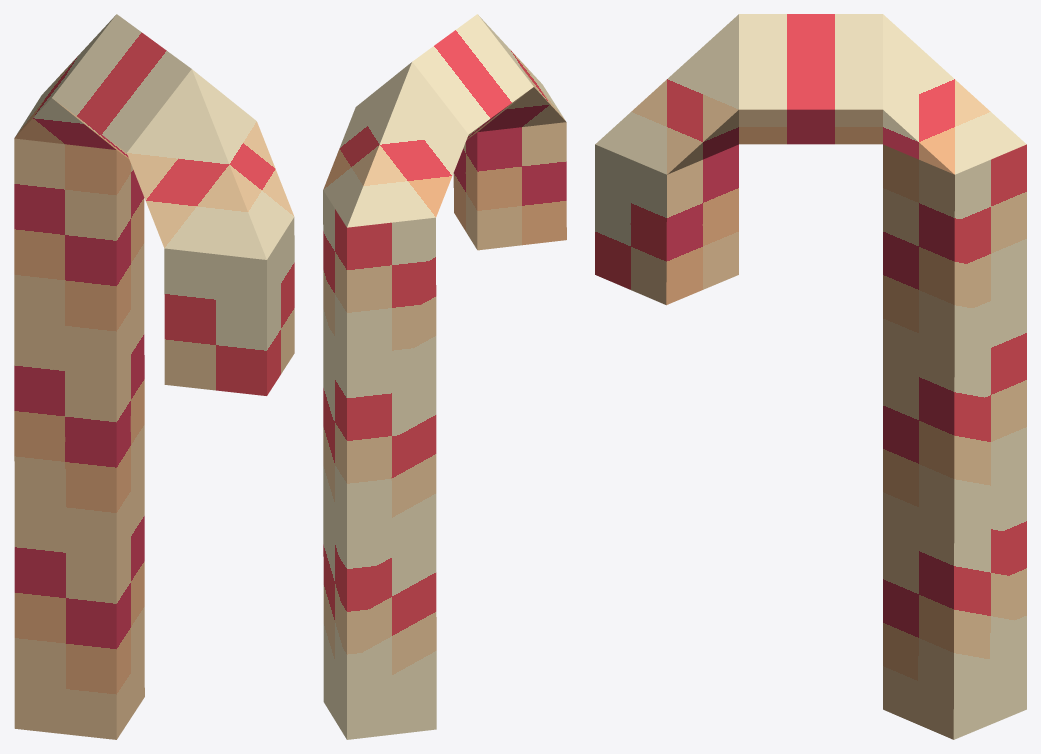
File: cane.fbx
The picture shows the model from 3 angles, left to right: view 1: azimuth 30°, elevation 25°; view 2: azimuth 150°, elevation 25°; view 3: azimuth 270°, elevation 25°; orthographic projection. The views are drawn at different scales.
Parts seen in each view (by area): view 1: Plane.005; view 2: Plane.005; view 3: Plane.005.
Boxes of the visible parts, x1,y1,x2,y2 form: Plane.005: [14, 14, 294, 739]; Plane.005: [323, 14, 566, 739]; Plane.005: [595, 14, 1026, 739].
Bounding box in the file's own units: 9.38 × 50 × 28.13.
Materials: 1 (1 with a texture image).
